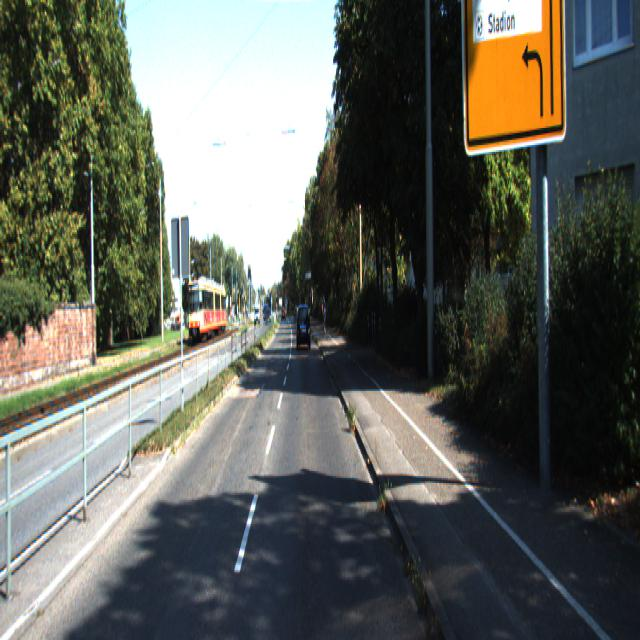Car: (187, 280, 228, 346), (297, 306, 312, 354)
